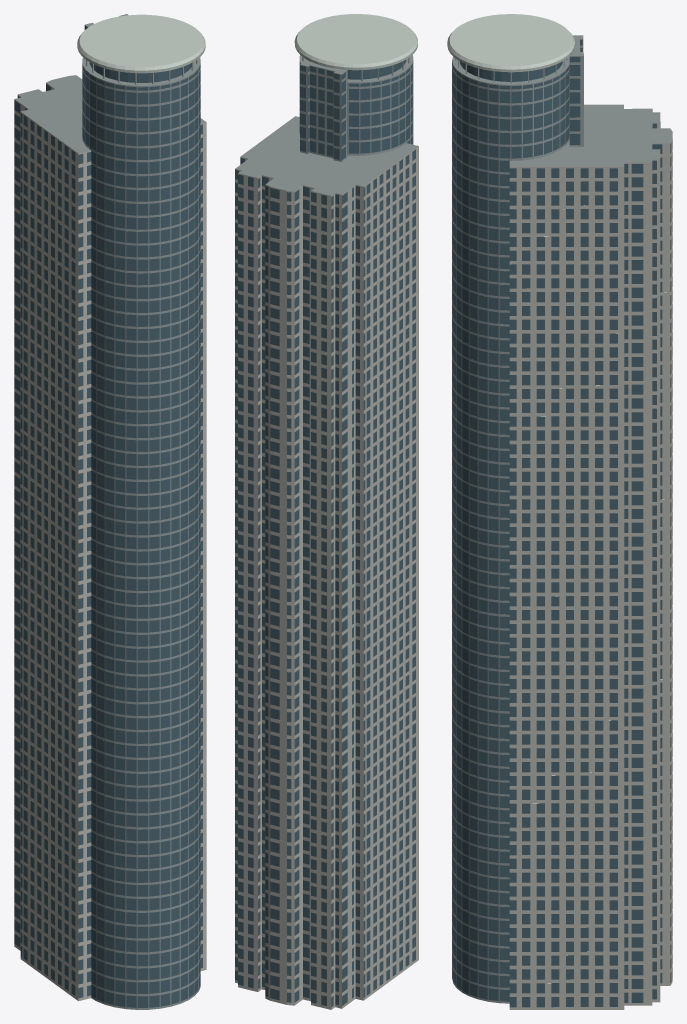
File: moshe-aviv-tower-near.glb
3 views of the same model, side by side, from view 1: azimuth 30°, elevation 25°; view 2: azimuth 150°, elevation 25°; view 3: azimuth 270°, elevation 25° (orthographic). The views are drawn at different scales.
Parts seen in each view (by area): view 1: moshe-aviv-tower-0-glass, moshe-aviv-tower-0-stone, moshe-aviv-tower-0-frame, moshe-aviv-tower-0-lamp, moshe-aviv-tower-0-roof; view 2: moshe-aviv-tower-0-stone, moshe-aviv-tower-0-glass, moshe-aviv-tower-0-roof, moshe-aviv-tower-0-lamp, moshe-aviv-tower-0-frame; view 3: moshe-aviv-tower-0-glass, moshe-aviv-tower-0-stone, moshe-aviv-tower-0-frame, moshe-aviv-tower-0-roof, moshe-aviv-tower-0-lamp.
Part boxes in pixels (left/top/right/bottom): moshe-aviv-tower-0-glass: left=14, top=26, right=202, bottom=1007; moshe-aviv-tower-0-stone: left=14, top=83, right=206, bottom=1001; moshe-aviv-tower-0-frame: left=82, top=25, right=200, bottom=1009; moshe-aviv-tower-0-lamp: left=77, top=14, right=205, bottom=73; moshe-aviv-tower-0-roof: left=15, top=14, right=206, bottom=153; moshe-aviv-tower-0-stone: left=235, top=146, right=418, bottom=1009; moshe-aviv-tower-0-glass: left=235, top=59, right=415, bottom=1006; moshe-aviv-tower-0-roof: left=235, top=55, right=418, bottom=195; moshe-aviv-tower-0-lamp: left=294, top=14, right=417, bottom=70; moshe-aviv-tower-0-frame: left=299, top=60, right=413, bottom=161; moshe-aviv-tower-0-glass: left=452, top=40, right=672, bottom=1007; moshe-aviv-tower-0-stone: left=509, top=109, right=672, bottom=1009; moshe-aviv-tower-0-frame: left=452, top=39, right=583, bottom=1003; moshe-aviv-tower-0-roof: left=452, top=35, right=672, bottom=166; moshe-aviv-tower-0-lamp: left=447, top=14, right=574, bottom=72.
Size of the model in its own units: 33.49 by 235 by 51.14.
